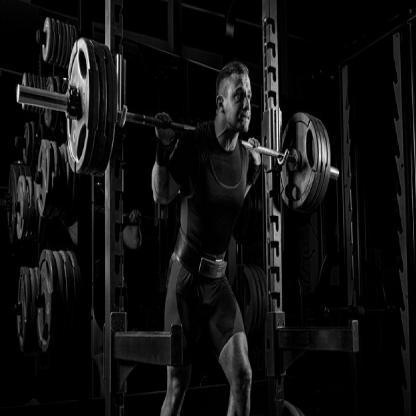Barbell: (14, 81, 25, 110)
